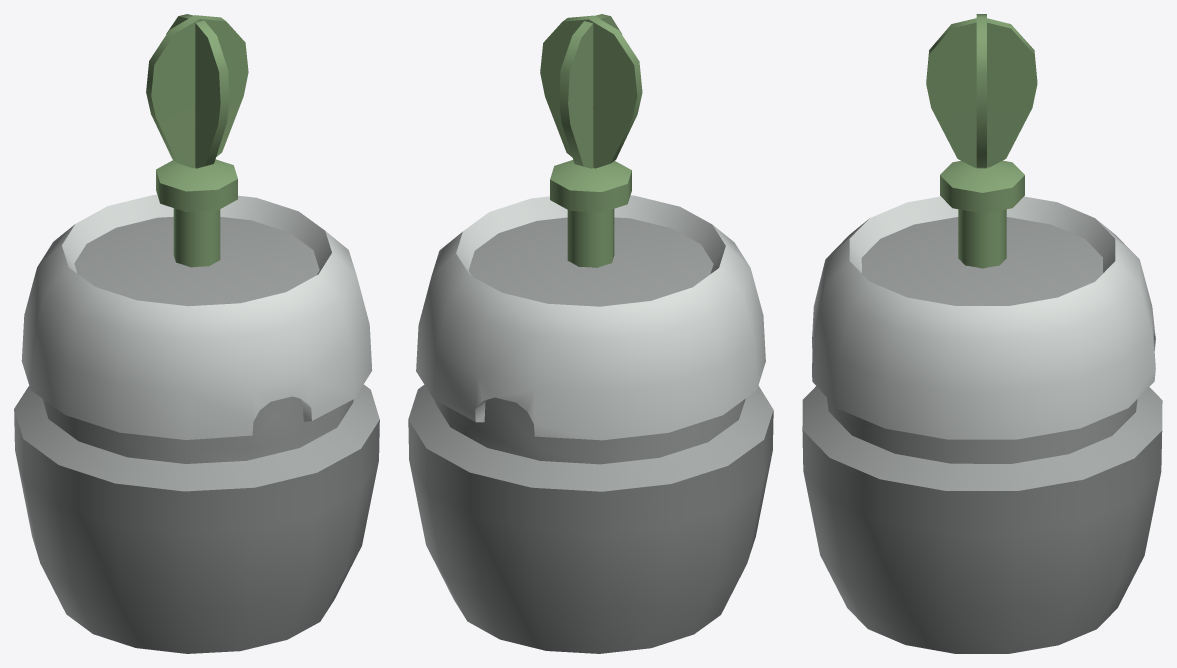
3 renders of one model, left to right at view 1: azimuth 30°, elevation 25°; view 2: azimuth 150°, elevation 25°; view 3: azimuth 270°, elevation 25°, orthographic.
Visible parts, largest first — view 1: G:\FFXIV-MapTools\exports\u5f1\bg\ex4\04_uvs_u5\fld\u5f1\bgp (×5); view 2: G:\FFXIV-MapTools\exports\u5f1\bg\ex4\04_uvs_u5\fld\u5f1\bgp (×5); view 3: G:\FFXIV-MapTools\exports\u5f1\bg\ex4\04_uvs_u5\fld\u5f1\bgp (×5).
Boxes of the visible parts, x1,y1,x2,y2 form: G:\FFXIV-MapTools\exports\u5f1\bg\ex4\04_uvs_u5\fld\u5f1\bgp (×5): (14,14,379,653); G:\FFXIV-MapTools\exports\u5f1\bg\ex4\04_uvs_u5\fld\u5f1\bgp (×5): (408,14,773,653); G:\FFXIV-MapTools\exports\u5f1\bg\ex4\04_uvs_u5\fld\u5f1\bgp (×5): (802,14,1162,653).
Bounding box in the file's own units: 2.11 × 3.74 × 2.11.
